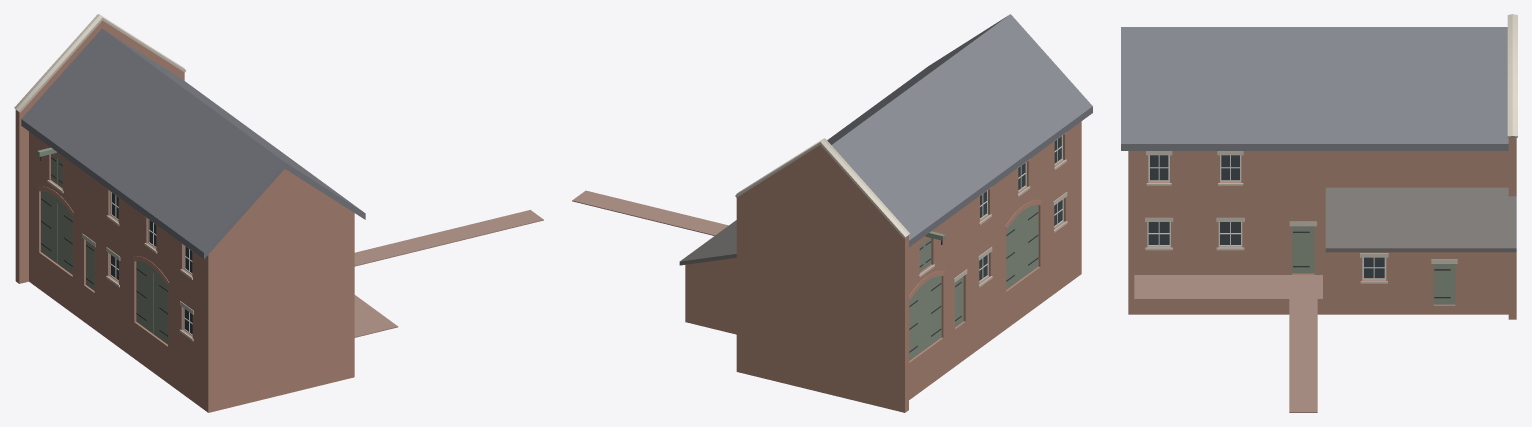
The model's file is jones_house_1834_prairie_coach_house__as_standing_1904.glb.
3 renders of one model, left to right at view 1: azimuth 30°, elevation 25°; view 2: azimuth 150°, elevation 25°; view 3: azimuth 270°, elevation 25°, orthographic. The views are drawn at different scales.
Parts seen in each view (by area): view 1: jones_house_1834_prairie_coach_house__as_standing_1904; view 2: jones_house_1834_prairie_coach_house__as_standing_1904; view 3: jones_house_1834_prairie_coach_house__as_standing_1904.
Part boxes in pixels (x1,y1,x2,y2): jones_house_1834_prairie_coach_house__as_standing_1904: [14, 14, 543, 412]; jones_house_1834_prairie_coach_house__as_standing_1904: [572, 14, 1092, 412]; jones_house_1834_prairie_coach_house__as_standing_1904: [1121, 14, 1517, 412].
Size of the model in its own units: 22.07 by 12.19 by 16.68.
